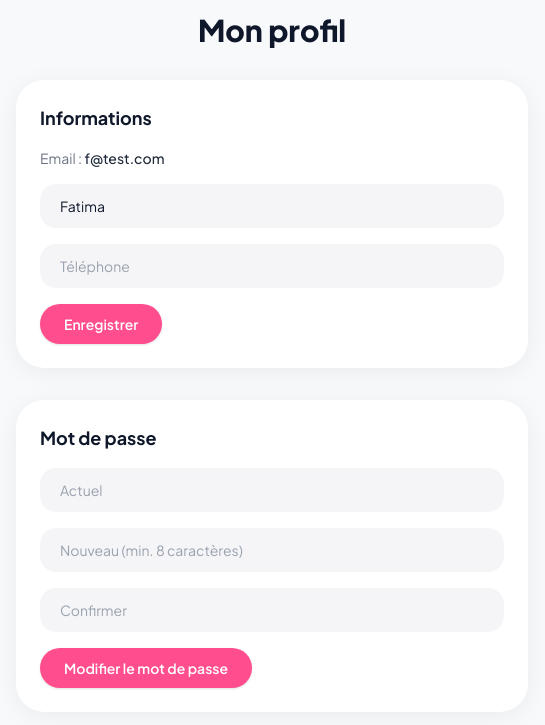
ProfilePage › affiche l’erreur si le mot de passe actuel est faux
This screenshot has width=545, height=725.
Type "faux" into the password field with placeholder "Actuel" at x=272, y=490, box [40,468,504,512]
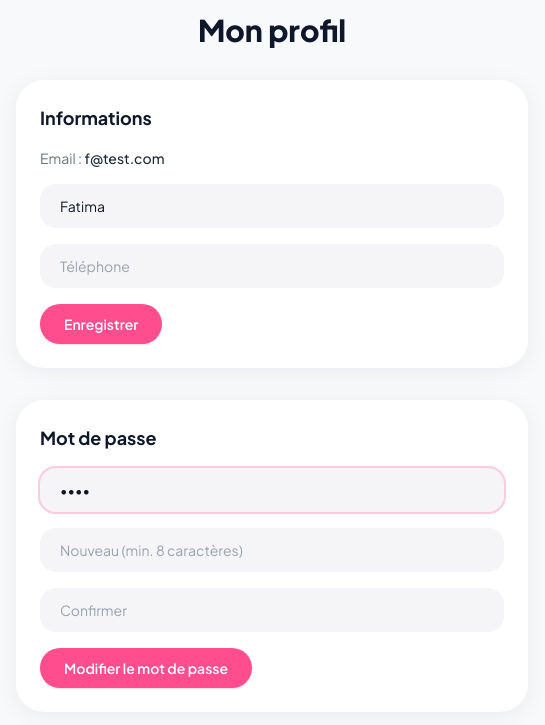
Type "nouveauMDP1" into the password field with placeholder "Nouveau (min. 8 caractères)" at x=272, y=550, box [40,528,504,572]
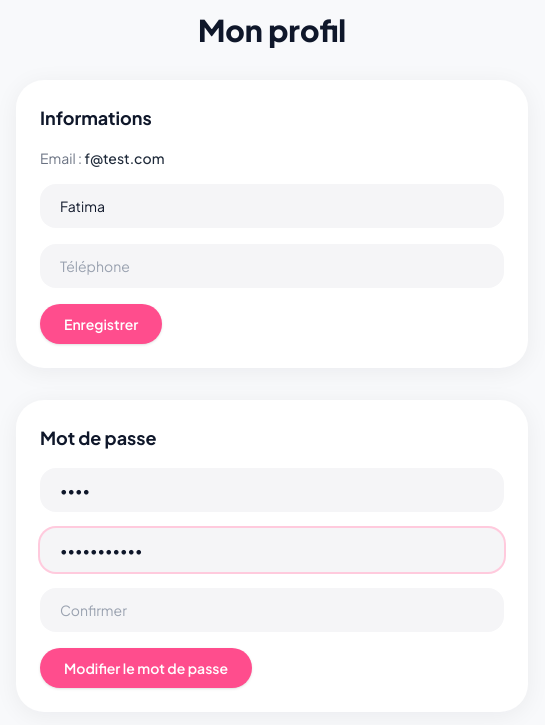
Type "nouveauMDP1" into the password field with placeholder "Confirmer" at x=272, y=610, box [40,588,504,632]
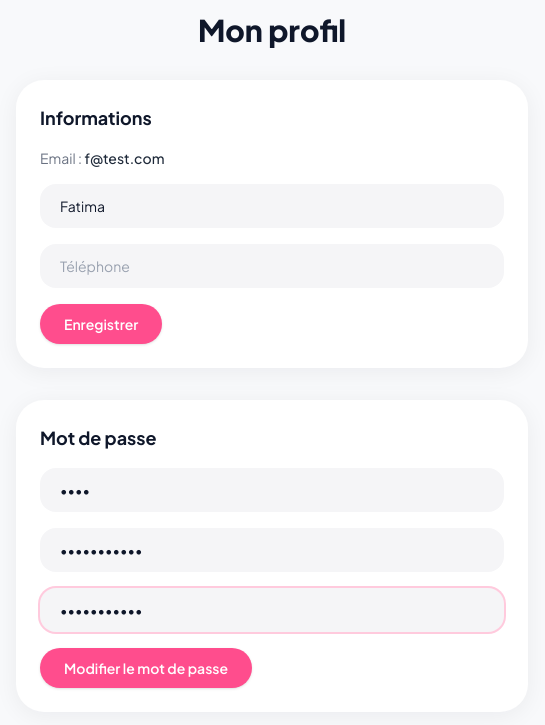
Click the button "Modifier le mot de passe" at x=146, y=668, box [40,648,252,688]
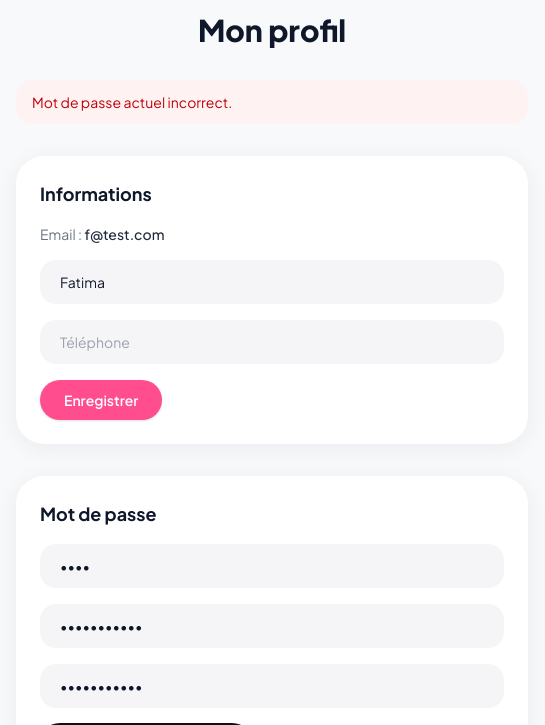
Result: the text "Mot de passe actuel incorrect." is shown at [16,80,528,124]
